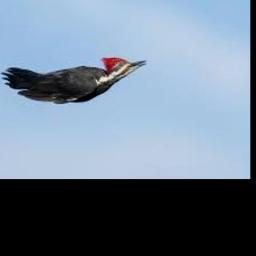Woodpecker: (0, 57, 145, 102)
